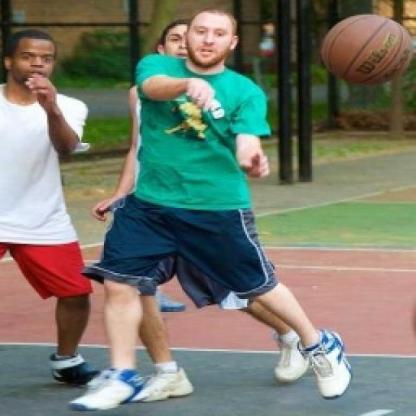basketball: (319, 10, 414, 88)
